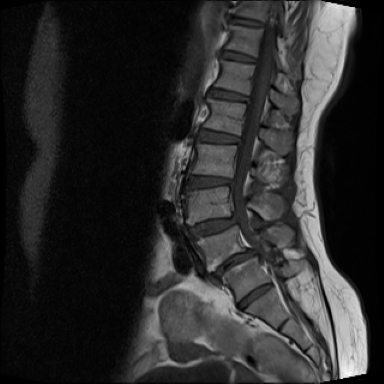Degenerative Disc Disease (DDD): (185, 207, 246, 247), (208, 243, 266, 283), (179, 168, 247, 200), (233, 279, 279, 316)
Normal IVD: (196, 125, 247, 152), (206, 81, 256, 107), (215, 46, 263, 67), (222, 11, 268, 30)
Spinal Stenosis (SS): (244, 238, 266, 267), (230, 205, 246, 231), (226, 172, 244, 192)
Spondylolisthesis: (202, 230, 280, 293)
